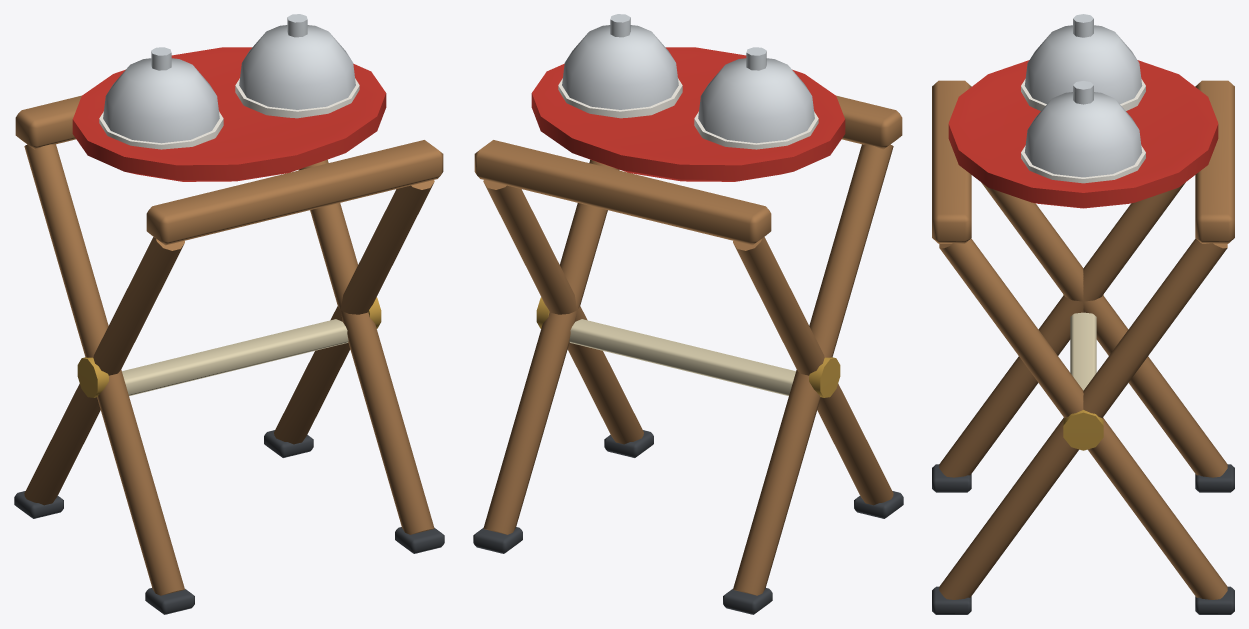
Rendered from SM_TrayStand_Tray_01.glb.
The picture shows the model from 3 angles, left to right: view 1: azimuth 30°, elevation 25°; view 2: azimuth 150°, elevation 25°; view 3: azimuth 270°, elevation 25°; orthographic projection.
Parts seen in each view (by area): view 1: SM_TrayStand_Tray_01; view 2: SM_TrayStand_Tray_01; view 3: SM_TrayStand_Tray_01.
Part boxes in pixels (box(x1,y1,x2,y2)): SM_TrayStand_Tray_01: box(14, 14, 444, 614); SM_TrayStand_Tray_01: box(473, 14, 903, 614); SM_TrayStand_Tray_01: box(932, 14, 1234, 614).
Bounding box in the file's own units: 0.5 × 0.83 × 0.46.
1 material, 1 textured.
